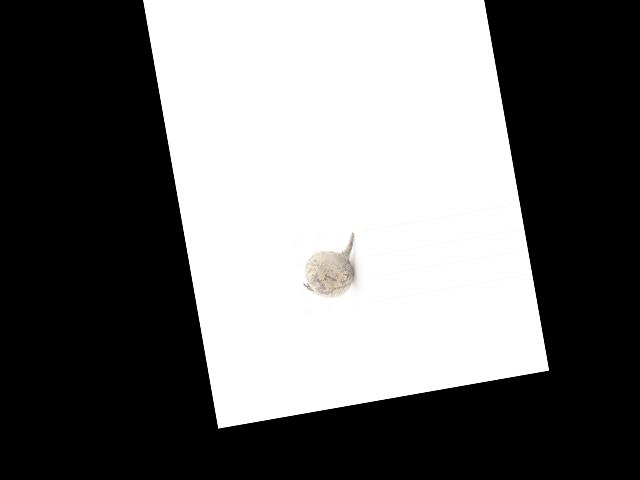beet: (296, 232, 364, 303)
